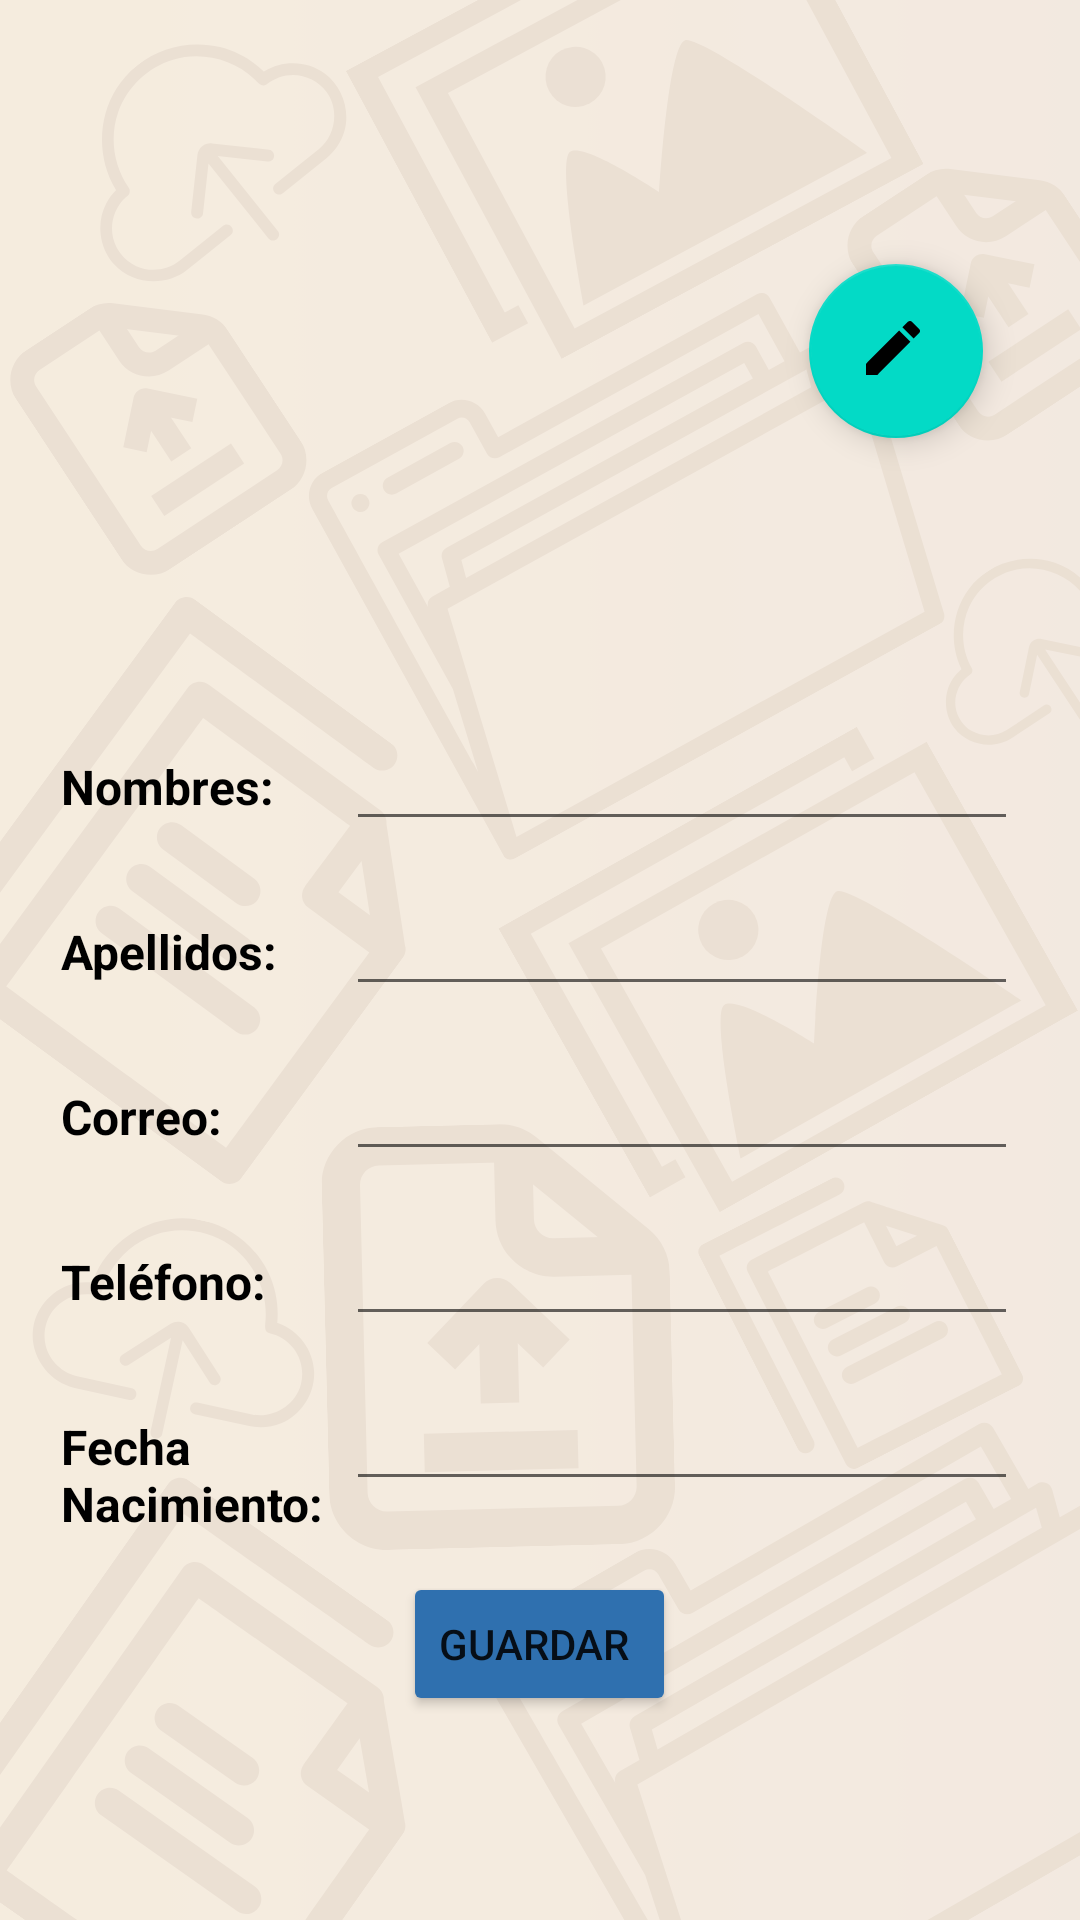

Named icons in this screenshot (1080 x 1920) and their bounding boxes, bbox=[x1, y1, x2, y2]:
edit: bbox=[809, 264, 983, 438]
